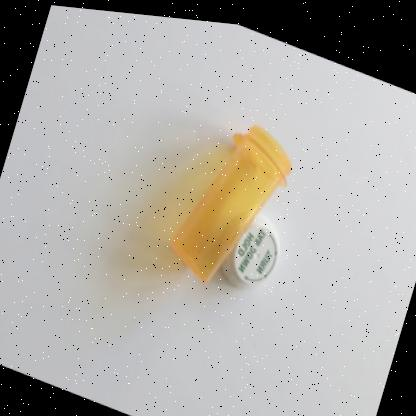Plastic: (171, 119, 291, 282)
